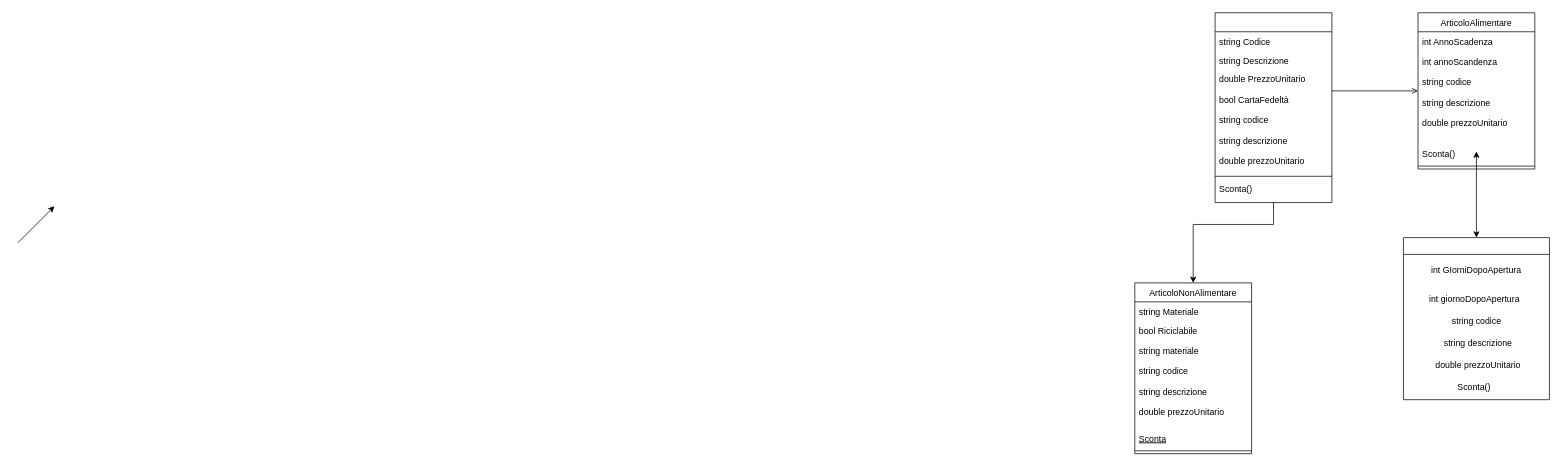
Some shapes in this 1562 by 466 pixel diagram are drawn without their labels. Here are the shapes that lost their labels. From the top down, the box of each, then its label:
(1214, 12, 1332, 203): Articolo
(1403, 237, 1549, 400): AlimentareFresco
